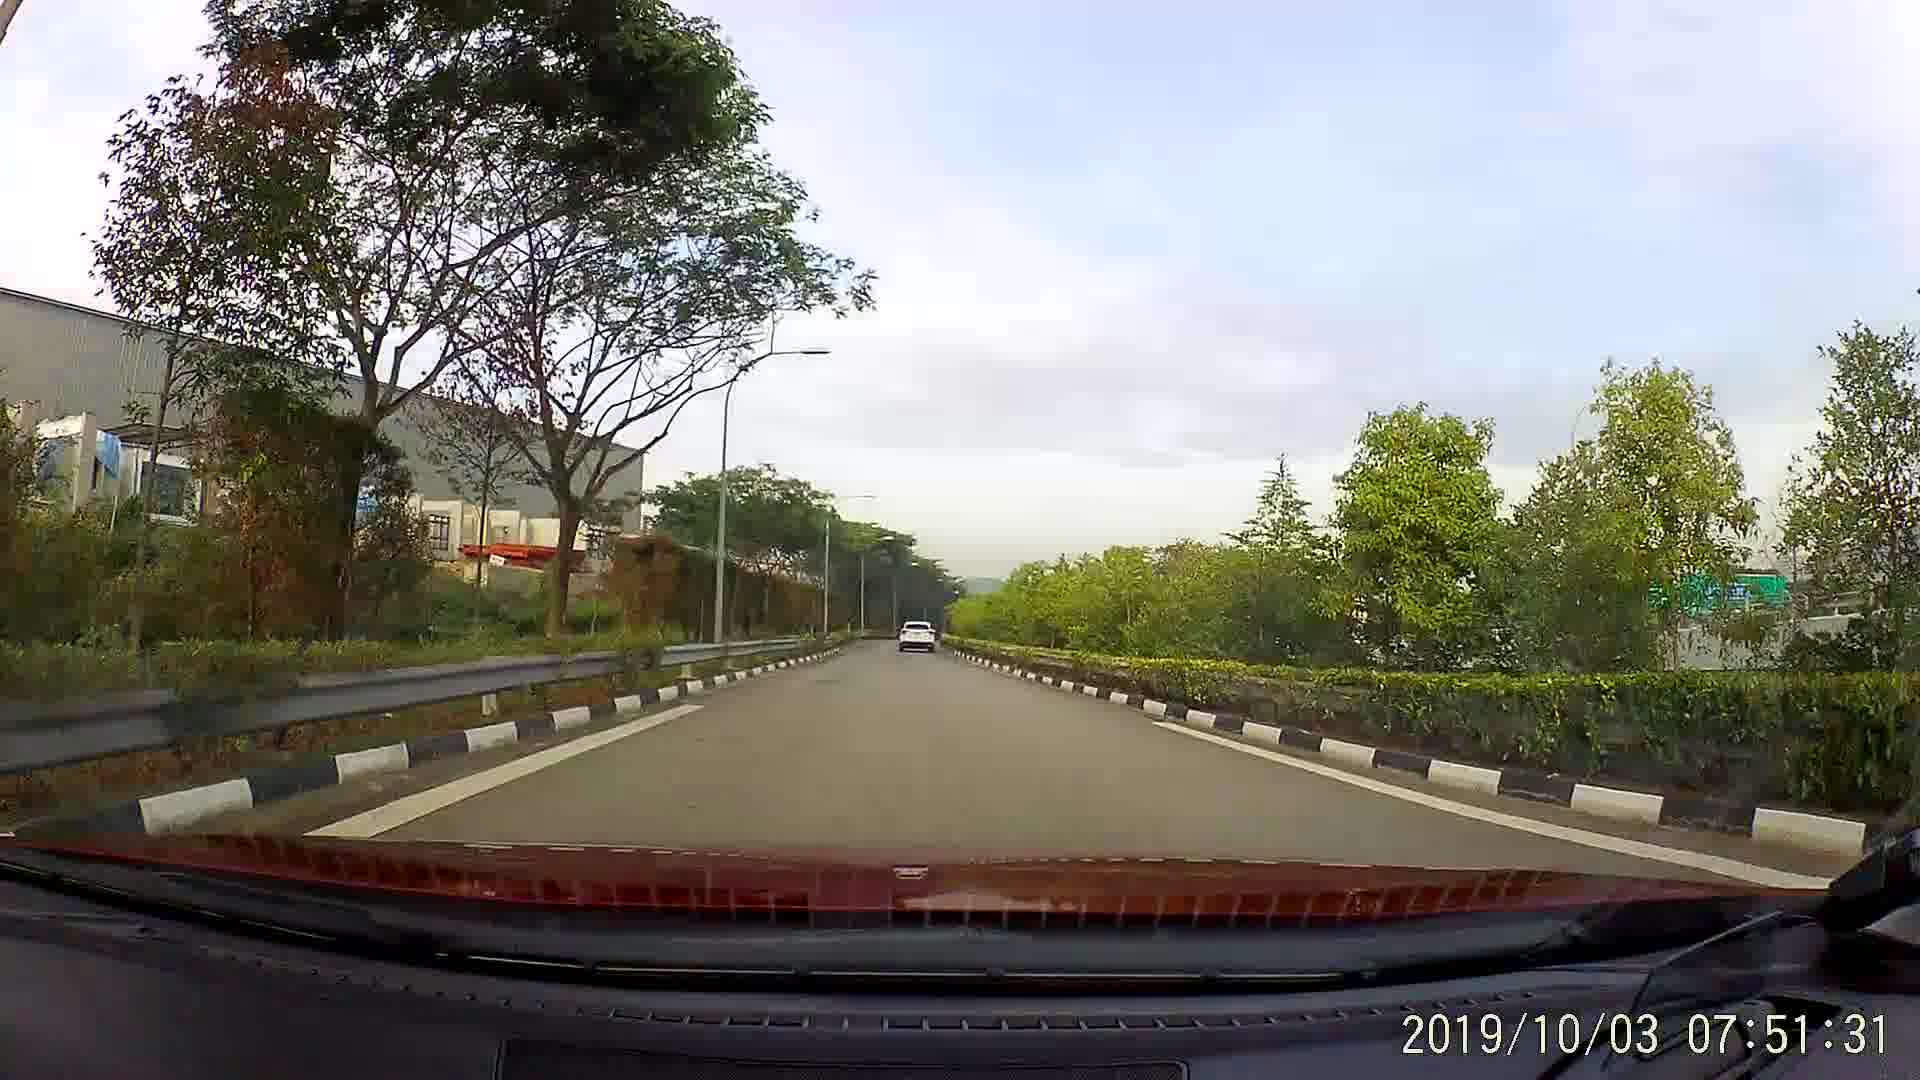car: (895, 617, 938, 651)
